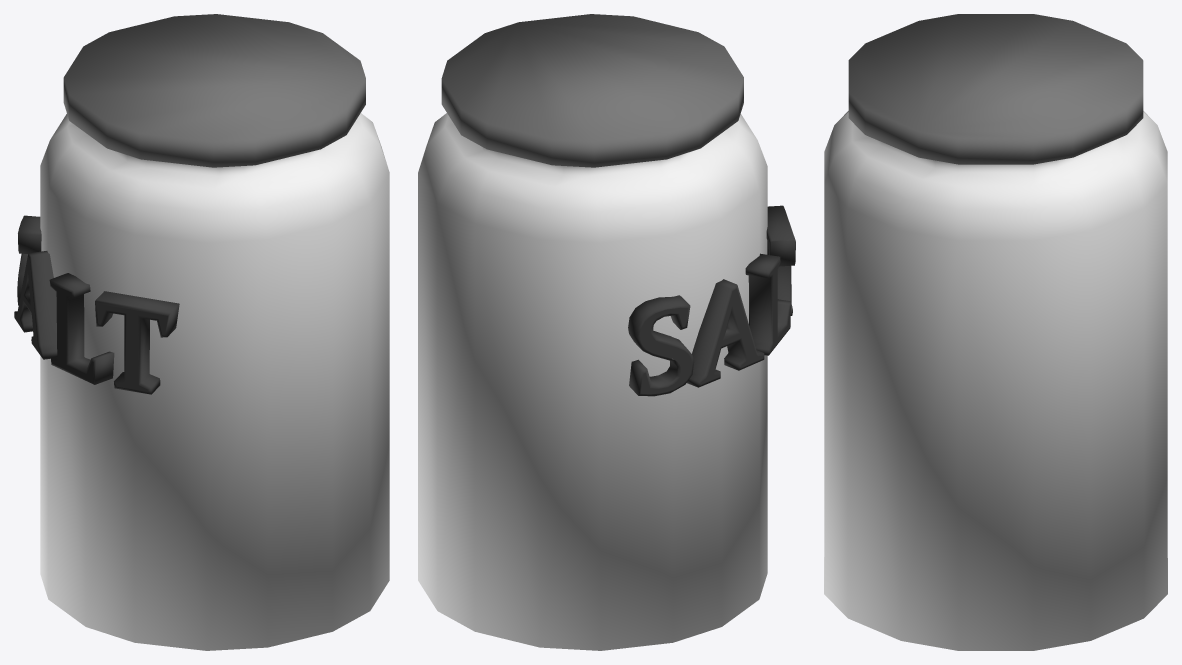
File: Salt.fbx
3 views of the same model, side by side, from view 1: azimuth 30°, elevation 25°; view 2: azimuth 150°, elevation 25°; view 3: azimuth 270°, elevation 25° (orthographic).
Parts seen in each view (by area): view 1: Salt; view 2: Salt; view 3: Salt.
Boxes of the visible parts, bbox=[...] form: Salt: bbox=[14, 14, 389, 650]; Salt: bbox=[418, 14, 795, 650]; Salt: bbox=[824, 14, 1167, 650].
Bounding box in the file's own units: 6.16 × 9.17 × 5.69.
